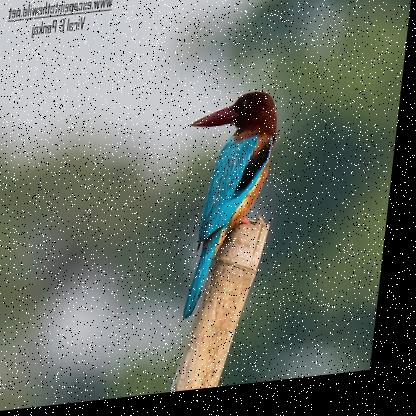Burung: (177, 94, 284, 325)
